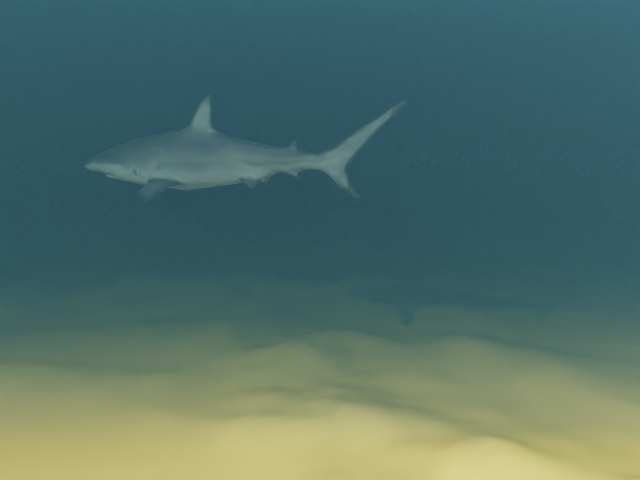Carribean Shark.001: (84, 94, 406, 203)
